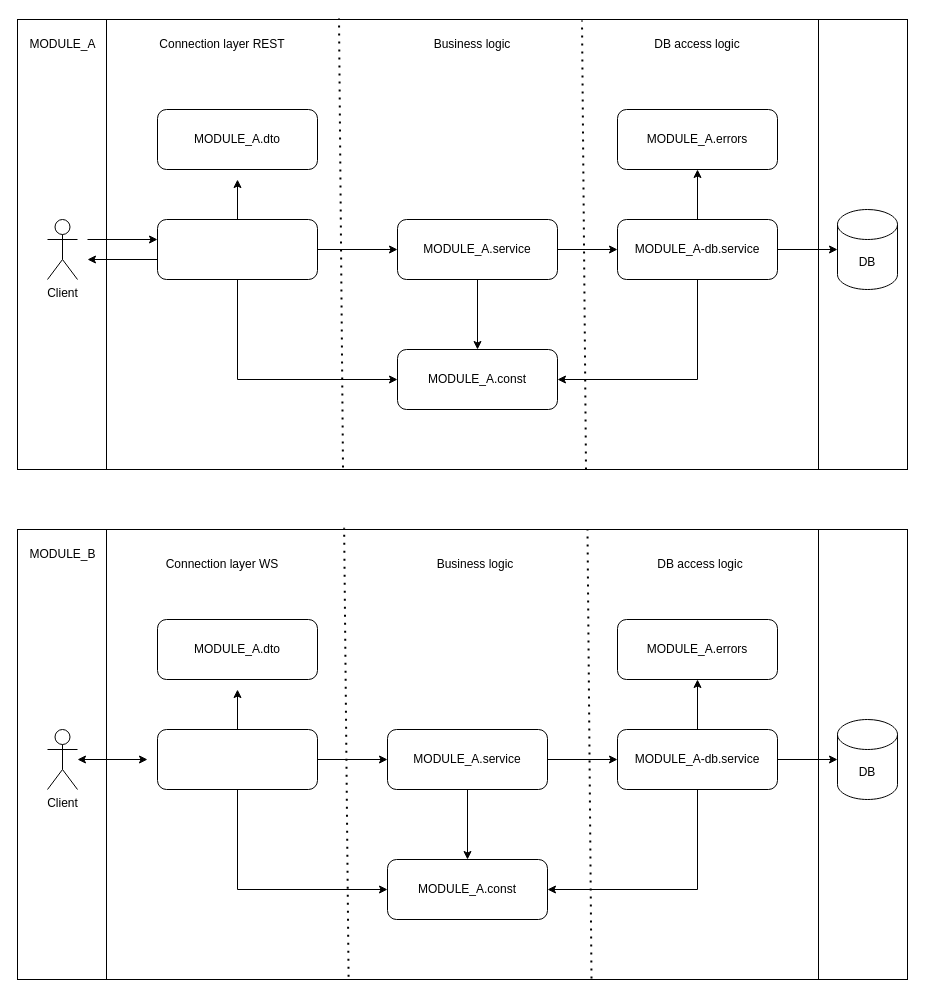
The diagram is 925 pixels wide and 997 high, and some of its shapes have lost their labels. Here are the shapes that lost their labels. From the top down, the centre of each, then its label:
At point 237,249: "MODULE_A.controller".
At point 237,759: "MODULE_A.gateway".
